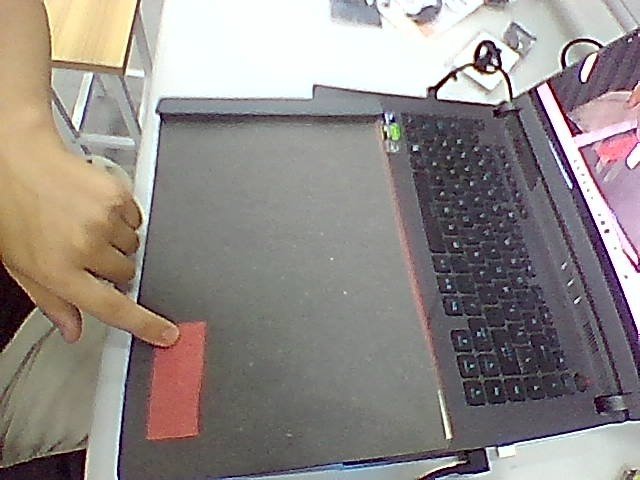card: (147, 322, 206, 440)
